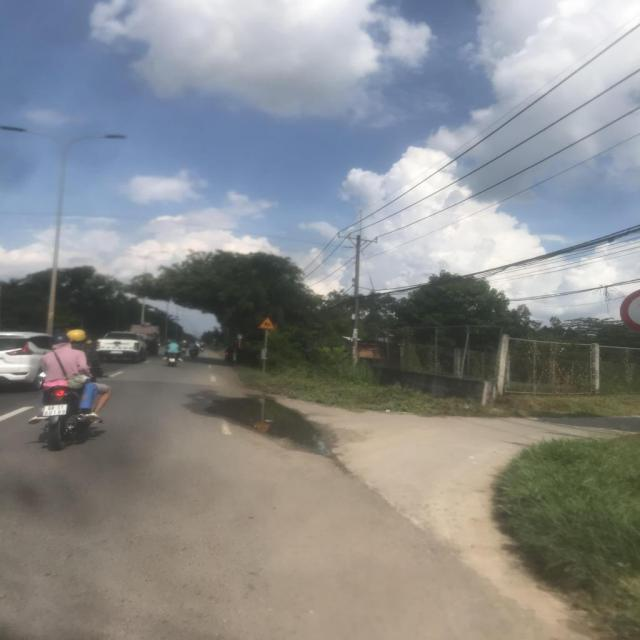chu_y_tre_em: (258, 316, 274, 329)
